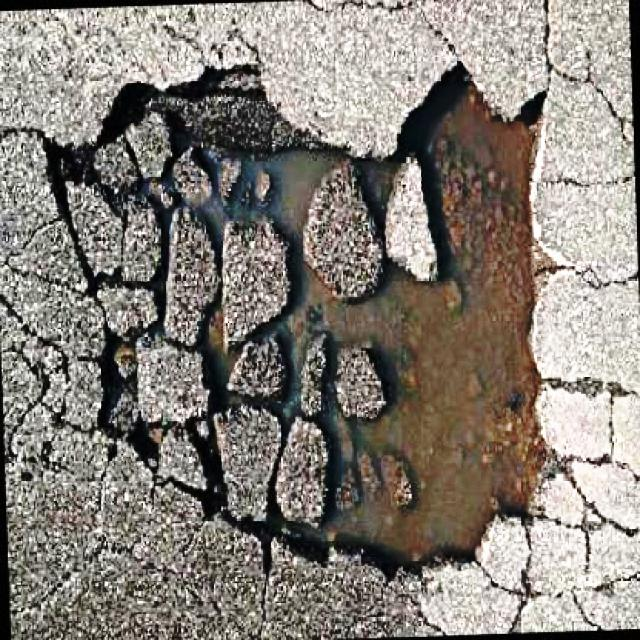pothole: (40, 57, 569, 588)
